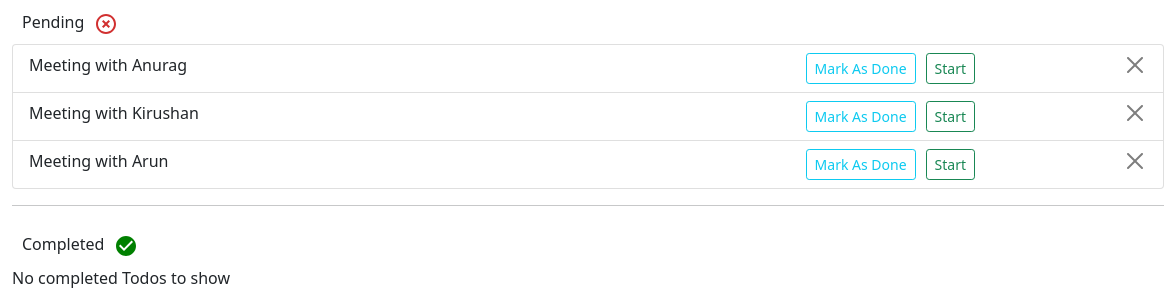
Scenario: TodoList › Remove a todo from pending list
Click the button named "Close" in the row of "Meeting with Anurag" at point(1135, 65), box left=1123, top=53, right=1147, bottom=77
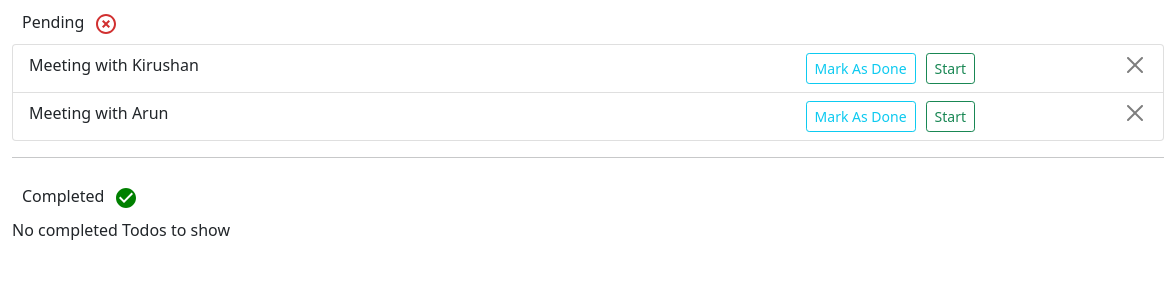
Expected: the list item "Meeting with Anurag Mark As Done Start" is gone
